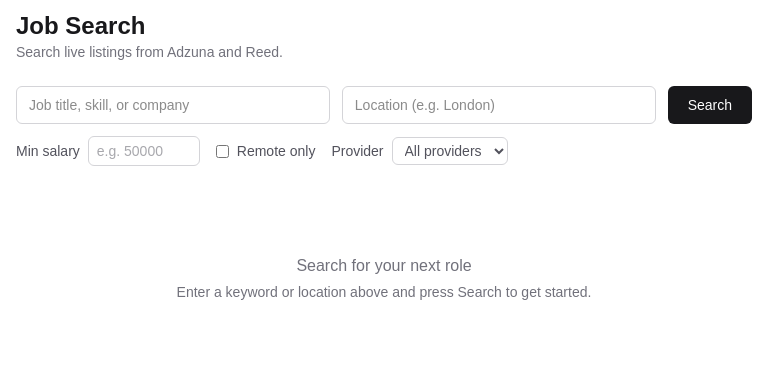
it: JobSearchScreen › shows the error state on a failed search and can retry
The width and height of the screenshot is (769, 391).
Click the button "Search" at [710, 105], box [668,86,752,124]
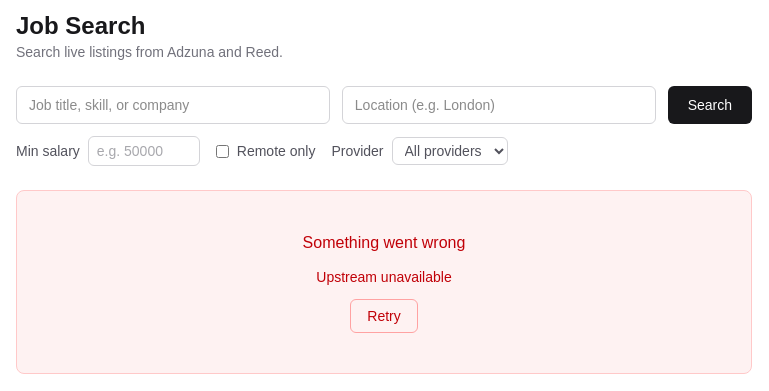
Now the message shows "Upstream unavailable", box [316,269,452,285]
Click the button "Retry" at [384, 316], box [350,299,418,333]
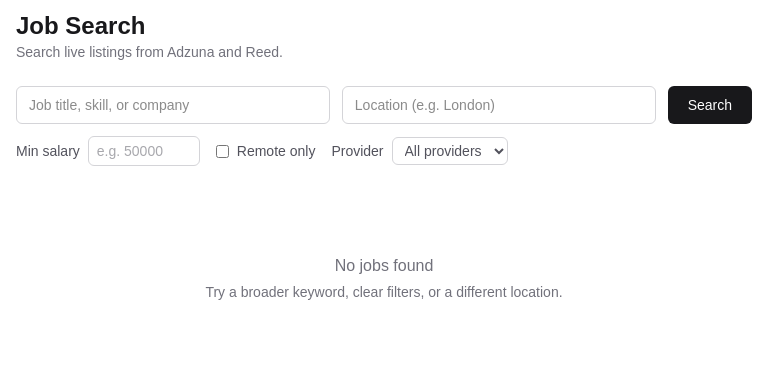
Now the text "No jobs found" is shown, box [335,254,433,278]
